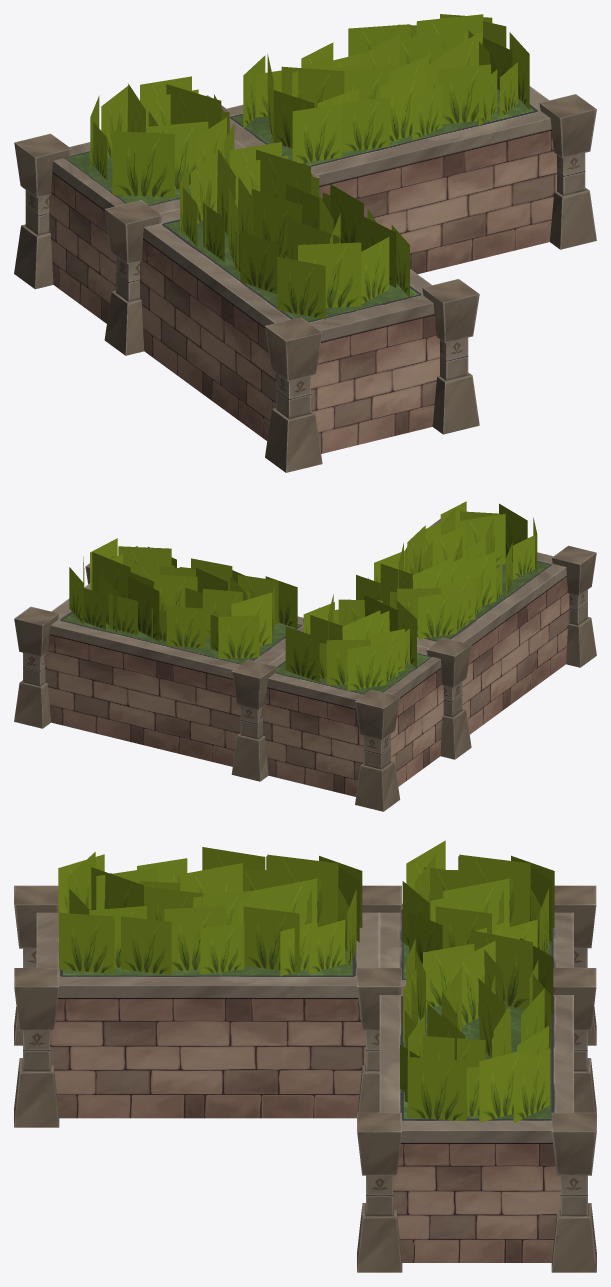
The model's file is wallGrass_corner.fbx.
3 views of the same model, one above another, from view 1: azimuth 30°, elevation 25°; view 2: azimuth 150°, elevation 25°; view 3: azimuth 270°, elevation 25° (orthographic). The views are drawn at different scales.
Visible parts, largest first — view 1: polySurface2488; view 2: polySurface2488; view 3: polySurface2488.
Boxes of the visible parts, box(x1,y1,x2,y2) form: polySurface2488: box(14, 14, 596, 472); polySurface2488: box(14, 501, 596, 811); polySurface2488: box(14, 840, 596, 1272).
Size of the model in its own units: 11.53 by 4.53 by 11.53.
